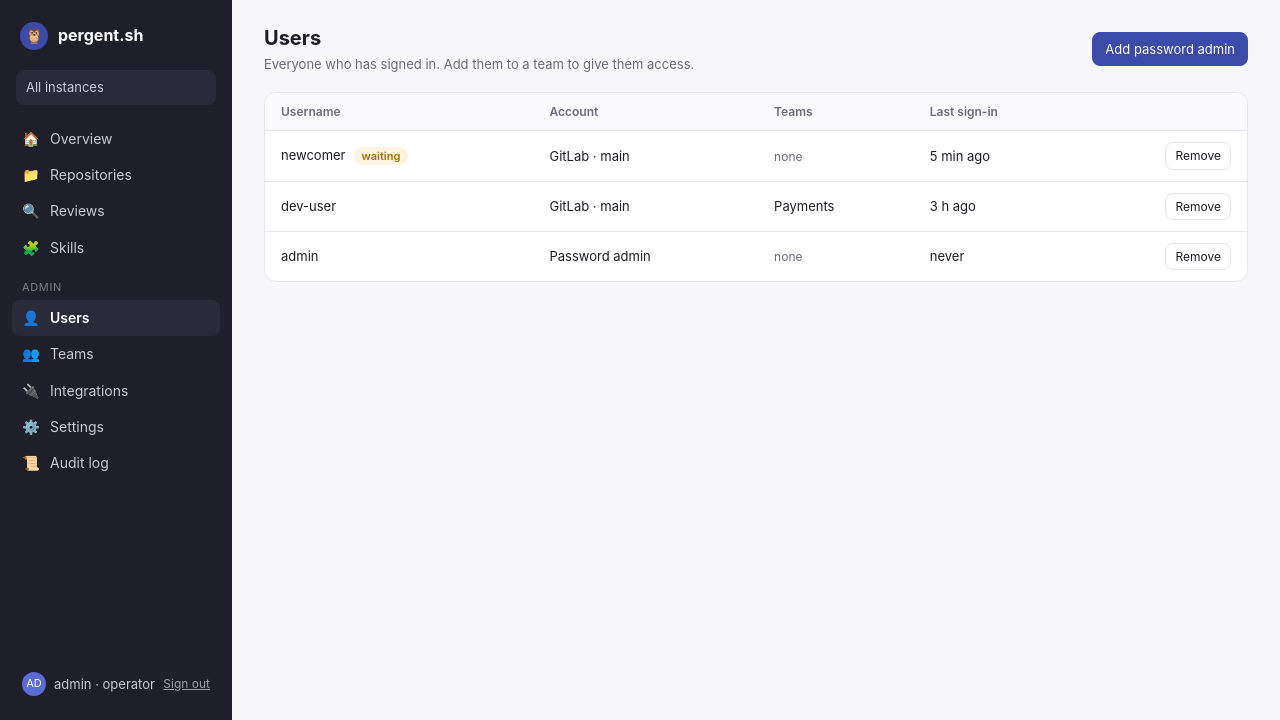
Test case: Users › removes an account after a confirmation, with the CSRF token
Click the button "Remove" in the row of "newcomer" at (1198,156), box [1166,142,1231,170]
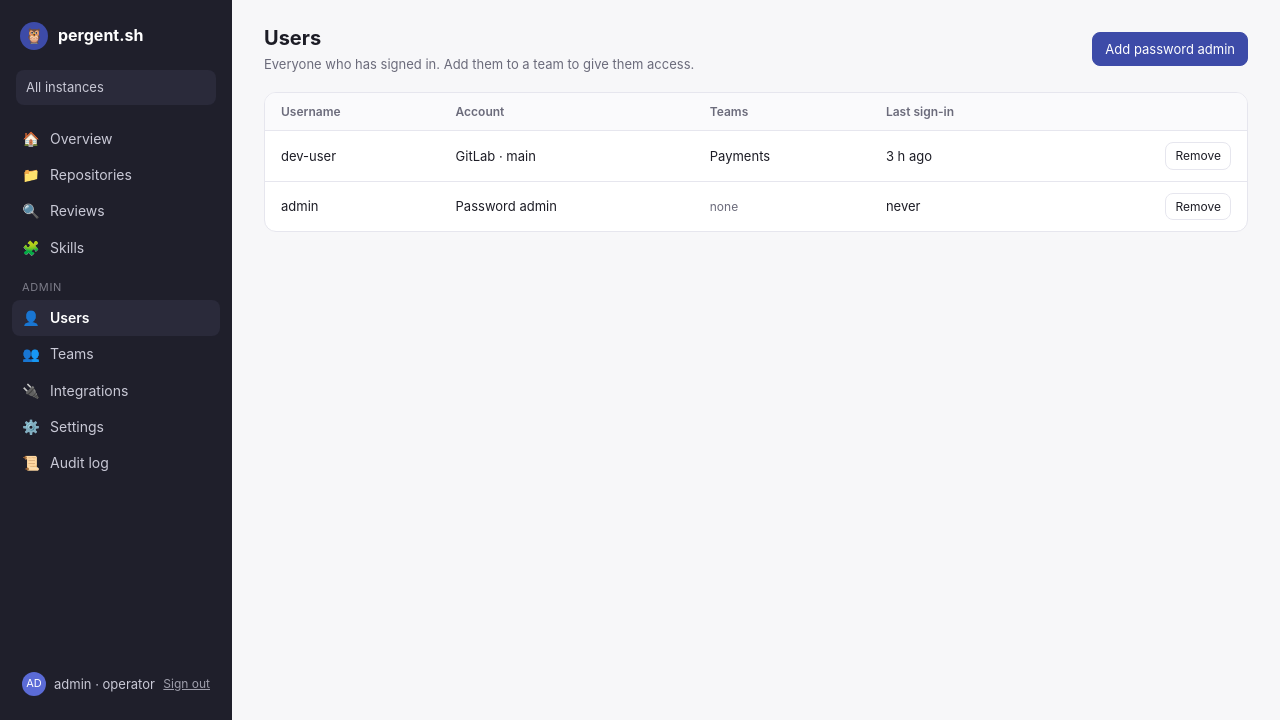
Now the text "newcomer" is gone
